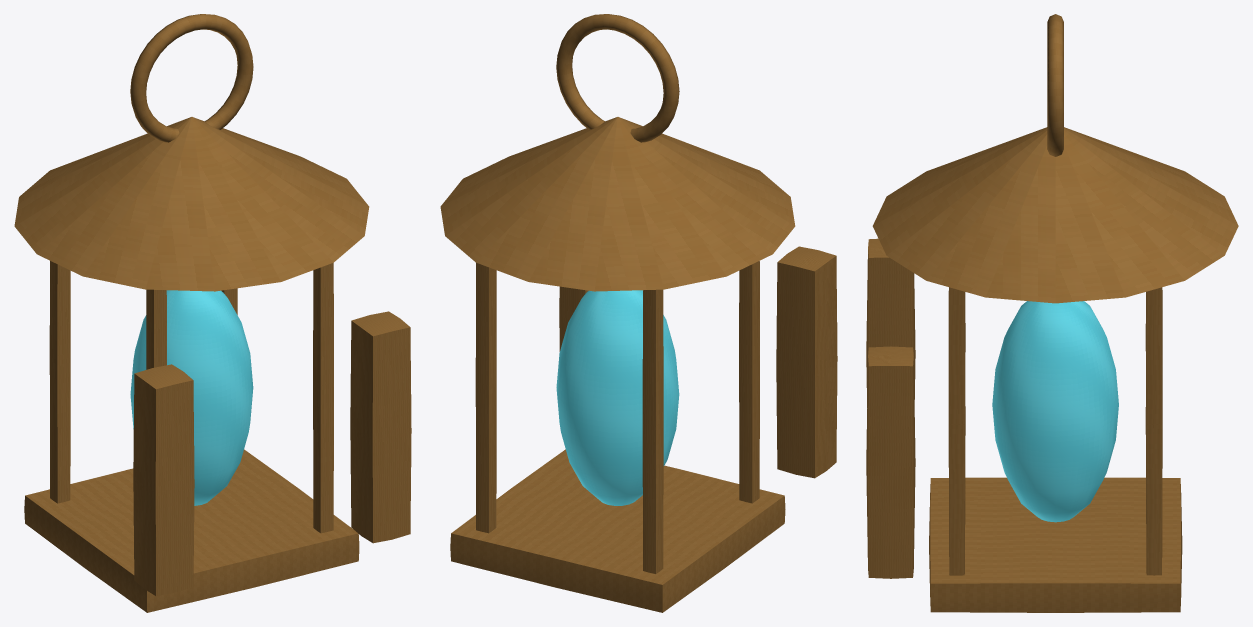
The picture shows the model from 3 angles, left to right: view 1: azimuth 30°, elevation 25°; view 2: azimuth 150°, elevation 25°; view 3: azimuth 270°, elevation 25°; orthographic projection. The views are drawn at different scales.
Parts seen in each view (by area): view 1: brass.6, brass.0, brass.9, brass.8, crystal.5, brass.4, brass.7, brass.1, brass.2; view 2: brass.6, brass.0, crystal.5, brass.8, brass.1, brass.3, brass.7, brass.2, brass.9; view 3: brass.6, brass.0, crystal.5, brass.9, brass.4, brass.3, brass.8, brass.7.
Part boxes in pixels (left/top/right/bottom): brass.6: left=14, top=117, right=369, bottom=291; brass.0: left=24, top=449, right=359, bottom=612; brass.9: left=350, top=311, right=411, bottom=543; brass.8: left=133, top=364, right=194, bottom=596; crystal.5: left=130, top=290, right=253, bottom=505; brass.4: left=313, top=263, right=333, bottom=533; brass.7: left=130, top=14, right=253, bottom=142; brass.1: left=49, top=261, right=70, bottom=503; brass.2: left=146, top=289, right=166, bottom=369; brass.6: left=440, top=117, right=795, bottom=291; brass.0: left=450, top=449, right=785, bottom=612; crystal.5: left=556, top=290, right=679, bottom=505; brass.8: left=776, top=246, right=837, bottom=478; brass.1: left=642, top=289, right=663, bottom=573; brass.3: left=475, top=262, right=496, bottom=533; brass.7: left=556, top=14, right=679, bottom=142; brass.2: left=739, top=261, right=759, bottom=503; brass.9: left=559, top=286, right=572, bottom=351; brass.6: left=872, top=127, right=1238, bottom=303; brass.0: left=929, top=477, right=1182, bottom=612; crystal.5: left=992, top=301, right=1118, bottom=522; brass.9: left=866, top=346, right=915, bottom=578; brass.4: left=948, top=287, right=965, bottom=575; brass.3: left=1145, top=287, right=1162, bottom=575; brass.8: left=866, top=238, right=915, bottom=407; brass.7: left=1047, top=14, right=1063, bottom=156.
Bounding box in the file's own units: 0.26 × 0.4235 × 0.2645.
2 materials, 2 textured.
